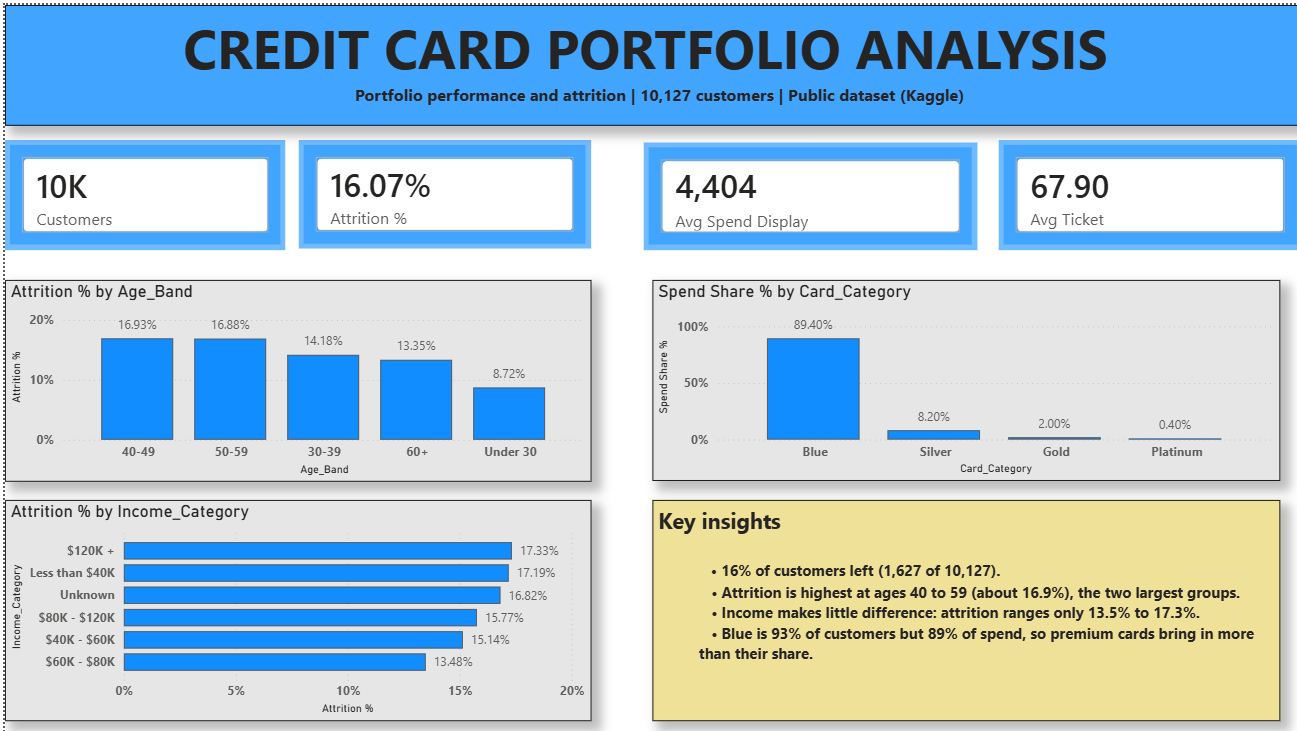

Layout of this report page (visuals, bound fields, positions):
{"tool":"powerbi","page":{"name":"Overview","canvas":[1280,720],"ordinal":0},"visuals":[{"type":"cardVisual","fields":{"Data":["customers_with_segments.Attrition %"]},"box":[290.1,133.3,288.9,107.4],"z":0},{"type":"cardVisual","fields":{"Data":["customers_with_segments.Customers"]},"box":[0,133.1,277.2,108.4],"z":1},{"type":"cardVisual","fields":{"Data":["customers_with_segments.Avg Spend Display"]},"box":[630.9,135.8,329.6,106.2],"z":2},{"type":"textbox","box":[0,0,1280.3,119.4],"z":3},{"type":"cardVisual","fields":{"Data":["customers_with_segments.Avg Ticket"]},"box":[981.1,133.1,299.1,108.4],"z":4},{"type":"clusteredColumnChart","fields":{"Category":["customers_with_segments.Age_Band"],"Y":["customers_with_segments.Attrition %"]},"box":[0,271.7,579.1,199],"z":5},{"type":"clusteredColumnChart","fields":{"Category":["customers_with_segments.Card_Category"],"Y":["customers_with_segments.Spend Share %"]},"box":[639.5,271.6,619.8,198.8],"z":6},{"type":"clusteredBarChart","fields":{"Y":["customers_with_segments.Attrition %"],"Category":["customers_with_segments.Income_Category"]},"box":[0,488.5,579.1,218.2],"z":7},{"type":"textbox","box":[639,489,620,218],"z":8}]}

Visuals, with their boxes in screenshot pixels (x1, y1, x2, y2), scaled from the page's 1280x720 canvas onto the 1297x731 screenshot:
cardVisual - customers_with_segments.Attrition %: l=294, t=135, r=587, b=244
cardVisual - customers_with_segments.Customers: l=0, t=135, r=281, b=245
cardVisual - customers_with_segments.Avg Spend Display: l=639, t=138, r=973, b=246
textbox: l=0, t=0, r=1296, b=121
cardVisual - customers_with_segments.Avg Ticket: l=994, t=135, r=1296, b=245
clusteredColumnChart - customers_with_segments.Age_Band x customers_with_segments.Attrition %: l=0, t=276, r=587, b=478
clusteredColumnChart - customers_with_segments.Card_Category x customers_with_segments.Spend Share %: l=648, t=276, r=1276, b=478
clusteredBarChart - customers_with_segments.Attrition % x customers_with_segments.Income_Category: l=0, t=496, r=587, b=717
textbox: l=647, t=496, r=1276, b=718
